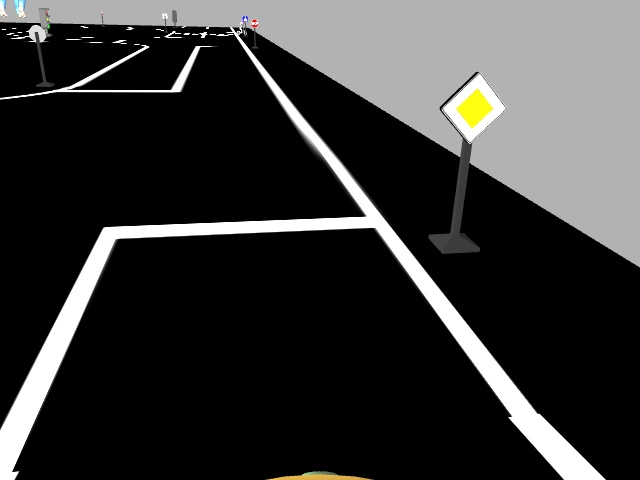Priority: (438, 71, 506, 142)
